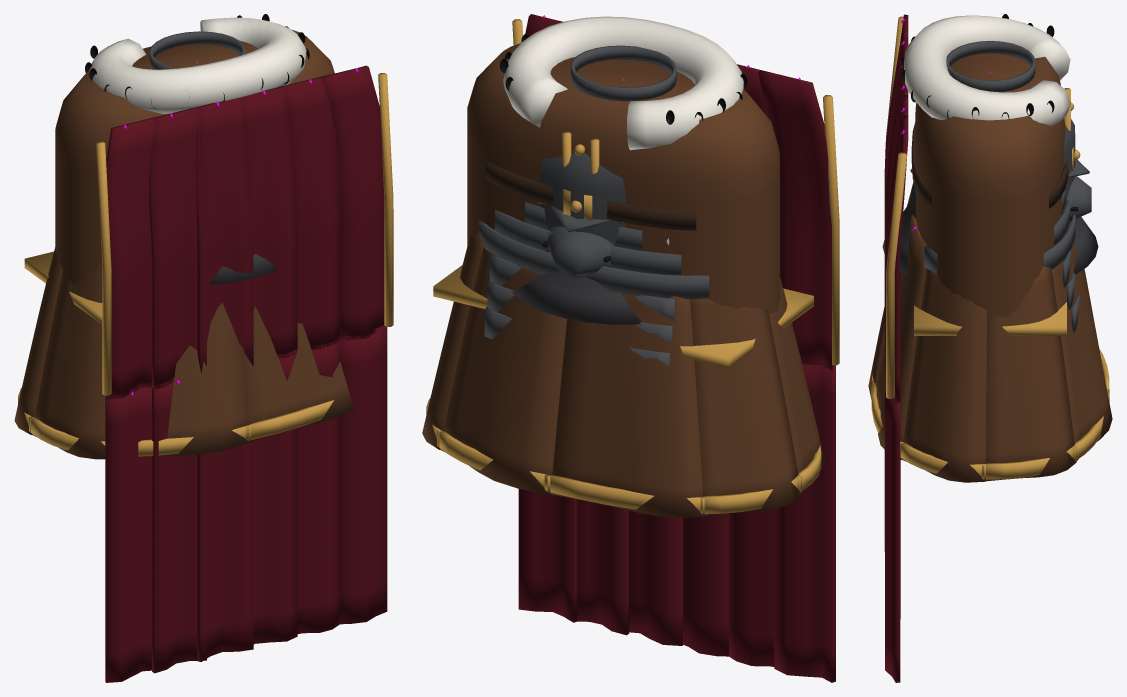
Rendered from garb.glb.
3 views of the same model, side by side, from view 1: azimuth 30°, elevation 25°; view 2: azimuth 150°, elevation 25°; view 3: azimuth 270°, elevation 25° (orthographic). The views are drawn at different scales.
Parts seen in each view (by area): view 1: King_UpperTorso__Cape5_1, King_UpperTorso__Cape0_1, King_UpperTorso__Cape1_0, King_UpperTorso__Coat, King_UpperTorso__Cape5_0, King_UpperTorso__Cape2_0, King_UpperTorso__Cape1_1, King_UpperTorso__Cape4_0, King_UpperTorso__Cape0_0, King_UpperTorso__Ermine, King_UpperTorso__Cape2_1, King_UpperTorso__Cape3_0 (+13 smaller); view 2: King_UpperTorso__Coat, King_LowerTorso__Skirt7, King_LowerTorso__Skirt0, King_LowerTorso__Skirt6, King_UpperTorso__Ermine, King_UpperTorso__Cape0_1, King_UpperTorso__Cape0_0, Knight_LowerTorso__Faulds, King_UpperTorso__Cape5_1, King_UpperTorso__Cape1_1, King_UpperTorso__Cape3_1, King_UpperTorso__Cape4_1 (+14 smaller); view 3: King_UpperTorso__Coat, King_LowerTorso__Skirt1, King_LowerTorso__Skirt2, King_UpperTorso__Ermine, King_LowerTorso__Skirt0, King_UpperTorso__Cape5_1, King_LowerTorso__Skirt3, King_UpperTorso__CapeTrim, Knight_UpperTorso__Gorget, King_UpperTorso__Braid, Knight_Head__Aventail, King_UpperTorso__Cape5_0 (+15 smaller).
Part boxes in pixels (x1,y1,x2,y2): King_UpperTorso__Cape5_1: [340, 325, 387, 624]; King_UpperTorso__Cape0_1: [105, 383, 151, 682]; King_UpperTorso__Cape1_0: [149, 107, 206, 389]; King_UpperTorso__Coat: [55, 30, 334, 284]; King_UpperTorso__Cape5_0: [320, 65, 384, 340]; King_UpperTorso__Cape2_0: [195, 97, 253, 373]; King_UpperTorso__Cape1_1: [152, 377, 206, 673]; King_UpperTorso__Cape4_0: [278, 77, 340, 349]; King_UpperTorso__Cape0_0: [105, 116, 159, 399]; King_UpperTorso__Ermine: [89, 17, 306, 113]; King_UpperTorso__Cape2_1: [197, 366, 253, 661]; King_UpperTorso__Cape3_0: [238, 87, 297, 358]; King_UpperTorso__Coat: [467, 43, 779, 313]; King_LowerTorso__Skirt7: [550, 293, 704, 517]; King_LowerTorso__Skirt0: [440, 247, 567, 494]; King_LowerTorso__Skirt6: [690, 298, 801, 515]; King_UpperTorso__Ermine: [503, 16, 743, 150]; King_UpperTorso__Cape0_1: [774, 360, 835, 682]; King_UpperTorso__Cape0_0: [758, 70, 833, 370]; Knight_LowerTorso__Faulds: [478, 202, 709, 299]; King_UpperTorso__Cape5_1: [518, 489, 577, 622]; King_UpperTorso__Cape1_1: [729, 509, 774, 666]; King_UpperTorso__Cape3_1: [629, 510, 682, 645]; King_UpperTorso__Cape4_1: [577, 499, 629, 635]; King_UpperTorso__Coat: [915, 53, 1065, 317]; King_LowerTorso__Skirt1: [986, 266, 1076, 481]; King_LowerTorso__Skirt2: [901, 268, 986, 482]; King_UpperTorso__Ermine: [904, 15, 1070, 125]; King_LowerTorso__Skirt0: [1051, 221, 1112, 460]; King_UpperTorso__Cape5_1: [885, 388, 900, 682]; King_LowerTorso__Skirt3: [875, 214, 926, 459]; King_UpperTorso__CapeTrim: [886, 16, 907, 398]; Knight_UpperTorso__Gorget: [946, 41, 1035, 92]; King_UpperTorso__Braid: [914, 88, 1074, 335]; Knight_Head__Aventail: [882, 181, 1098, 275]; King_UpperTorso__Cape5_0: [885, 115, 908, 402].
Bounding box in the file's own units: 3.37 × 5.56 × 2.17.
